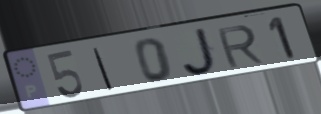0: (132, 36, 176, 84)
1: (266, 14, 299, 61)
5: (44, 48, 85, 100)
I: (90, 46, 116, 92)
J: (180, 25, 221, 78)
R: (214, 23, 267, 70)
